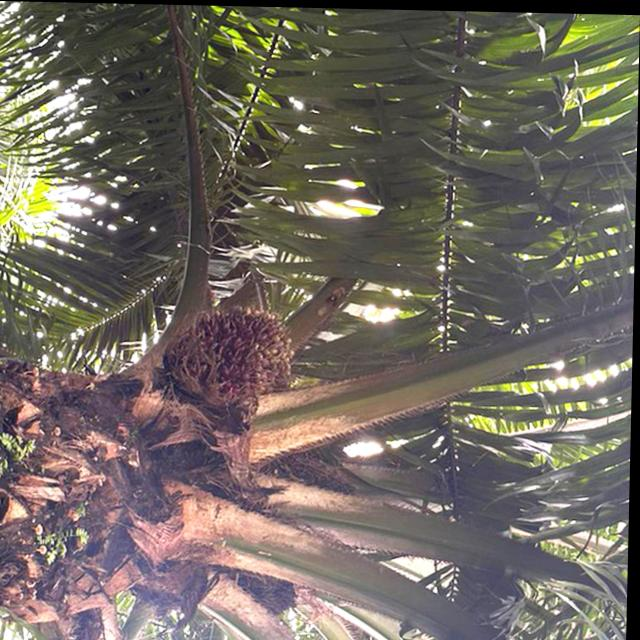ripe: (168, 300, 302, 408)
